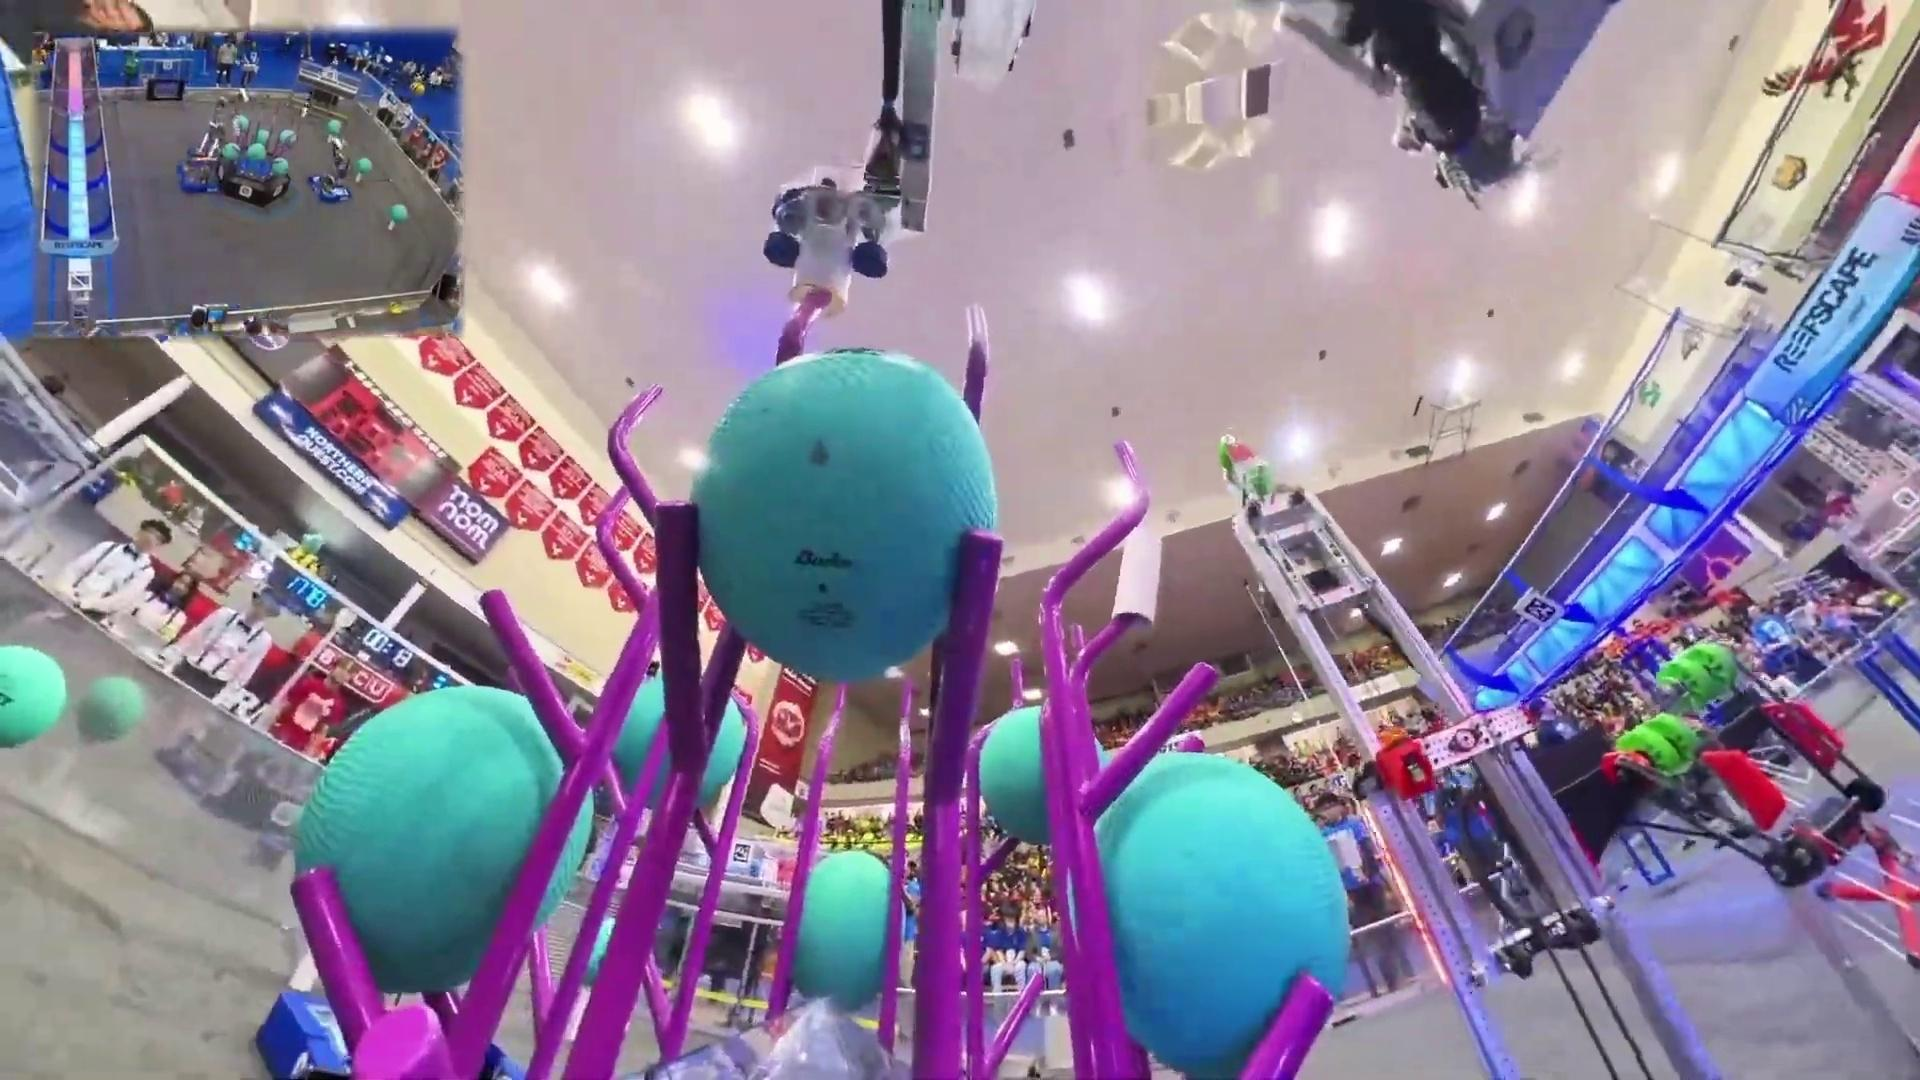robot: (256, 988, 527, 1080), (175, 94, 255, 195), (313, 124, 361, 202)
